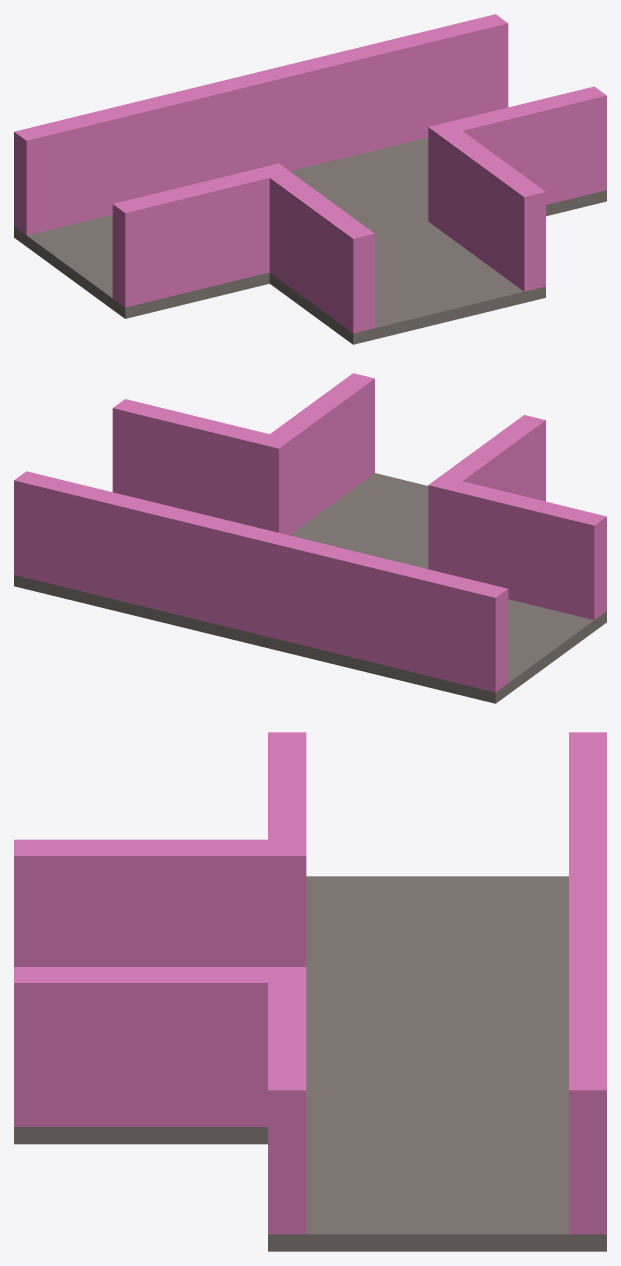
File: T_way.fbx
The picture shows the model from 3 angles, top to bottom: view 1: azimuth 30°, elevation 25°; view 2: azimuth 150°, elevation 25°; view 3: azimuth 270°, elevation 25°; orthographic projection. The views are drawn at different scales.
Visible parts, largest first — view 1: T_hallWay; view 2: T_hallWay; view 3: T_hallWay.
Boxes of the visible parts, x1,y1,x2,y2 form: T_hallWay: (14,14,606,344); T_hallWay: (14,373,606,703); T_hallWay: (14,732,606,1251).
Bounding box in the file's own units: 2000 × 420 × 1400.
